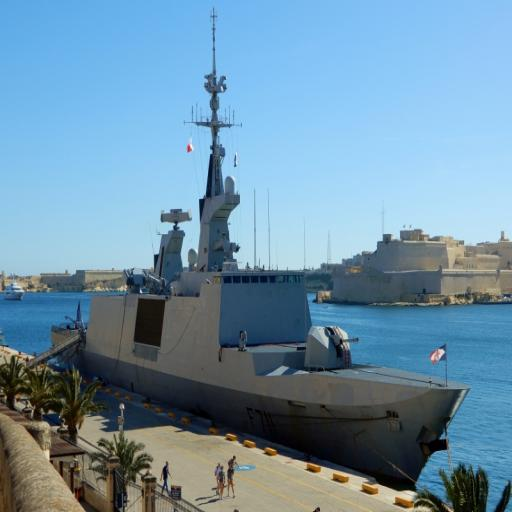Fragata: (44, 2, 476, 501)
